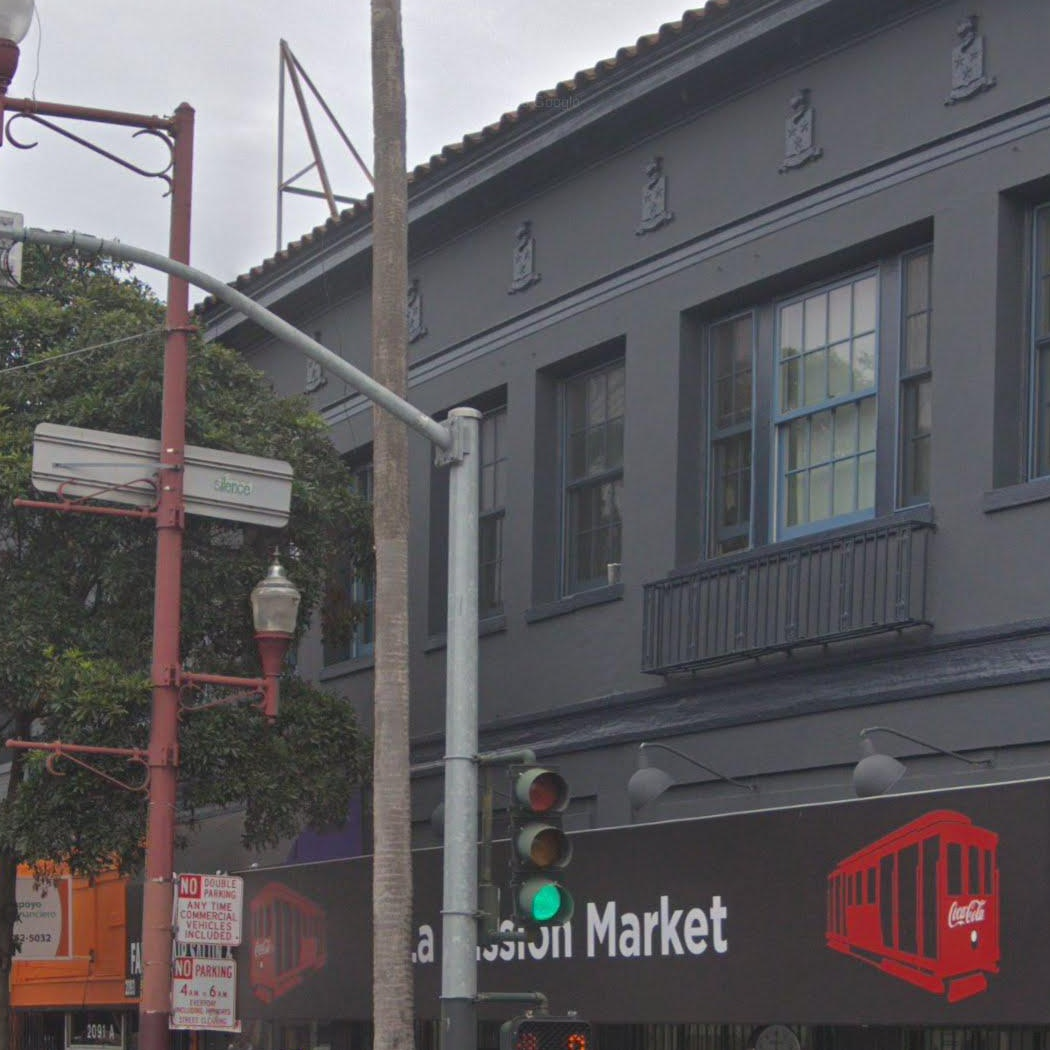No Parking: (169, 955, 239, 1033)
